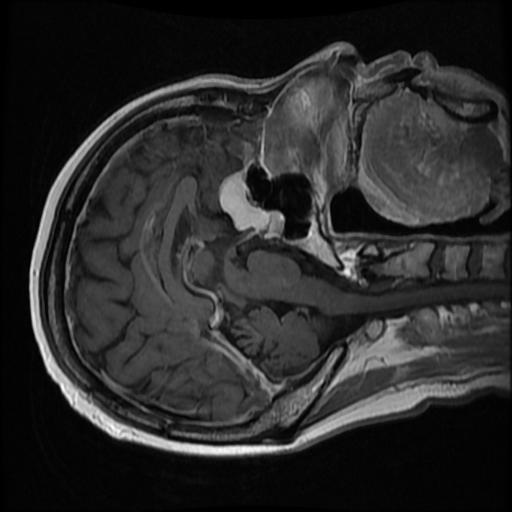meningioma: (220, 171, 269, 232)
